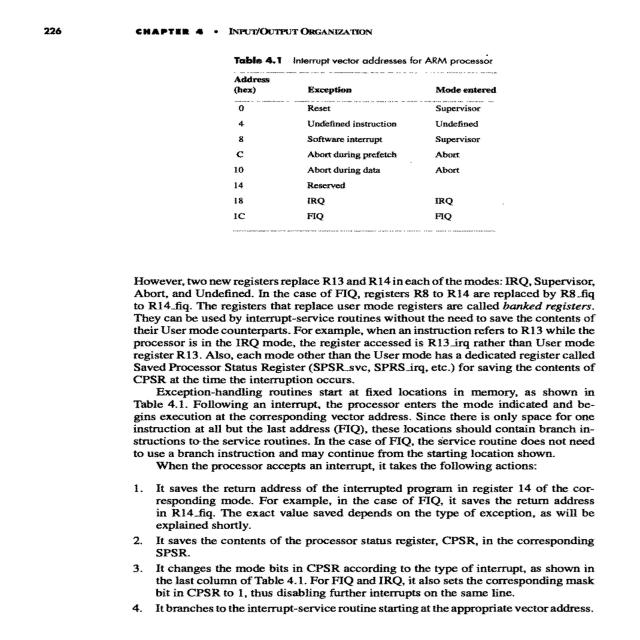diagram: (126, 49, 551, 241), (86, 78, 640, 180)
